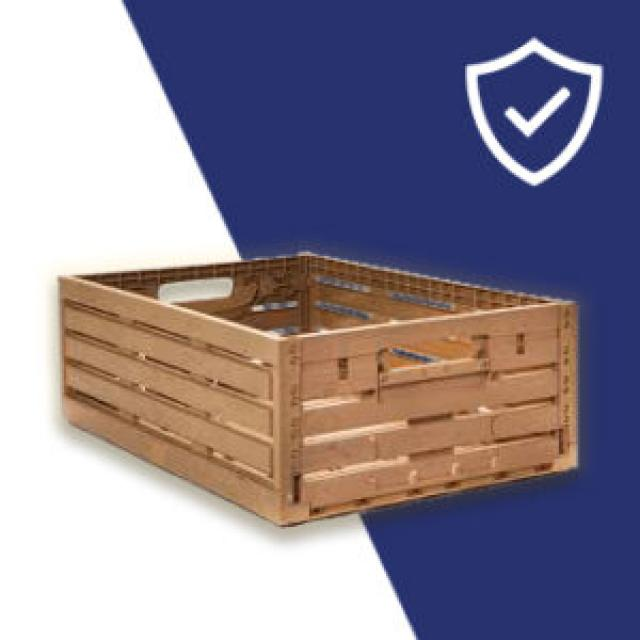basket: (55, 230, 596, 545)
